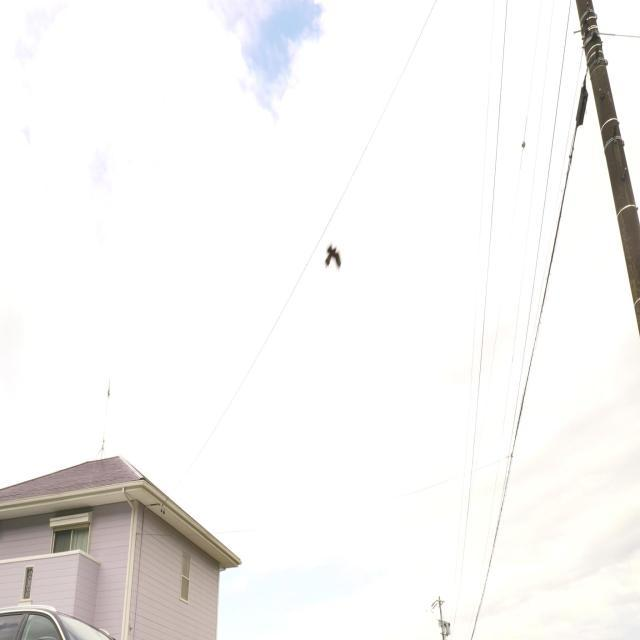Birds: (318, 222, 351, 280)
